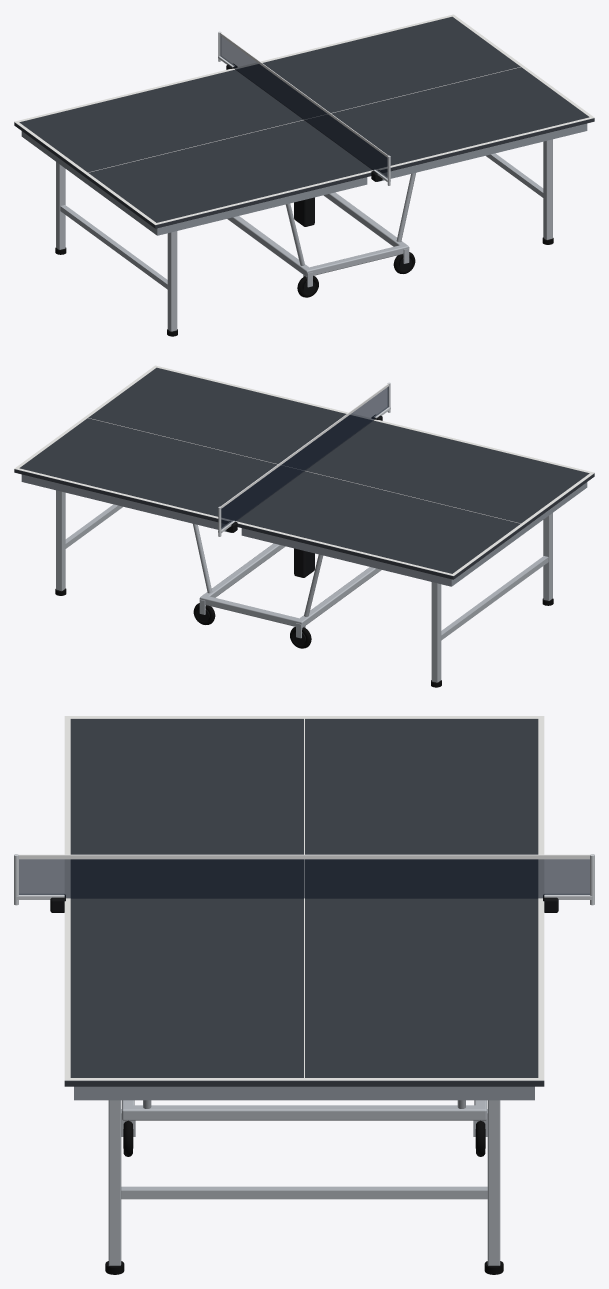
The model's file is platte-indoor-anthrazit.glb.
3 renders of one model, top to bottom at view 1: azimuth 30°, elevation 25°; view 2: azimuth 150°, elevation 25°; view 3: azimuth 270°, elevation 25°, orthographic. The views are drawn at different scales.
Parts seen in each view (by area): view 1: Platte (×2), Netz, Beine (×2), Hälfte A, Fahrwerk, Hälfte B, Tischtennisplatte; view 2: Platte (×2), Netz, Beine (×2), Hälfte A, Fahrwerk, Hälfte B, Tischtennisplatte; view 3: Platte (×2), Netz, Hälfte B, Beine, Fahrwerk, Hälfte A.
Boxes of the visible parts, bbox=[...] form: Platte (×2): bbox=[14, 16, 594, 228]; Netz: bbox=[218, 31, 390, 185]; Beine (×2): bbox=[55, 139, 553, 336]; Hälfte A: bbox=[14, 68, 373, 235]; Fahrwerk: bbox=[227, 192, 415, 297]; Hälfte B: bbox=[235, 14, 594, 181]; Tischtennisplatte: bbox=[285, 173, 415, 265]; Platte (×2): bbox=[14, 367, 594, 579]; Netz: bbox=[218, 382, 390, 536]; Beine (×2): bbox=[55, 490, 553, 687]; Hälfte A: bbox=[235, 419, 594, 586]; Fahrwerk: bbox=[193, 543, 381, 648]; Hälfte B: bbox=[14, 365, 373, 532]; Tischtennisplatte: bbox=[193, 524, 323, 616]; Platte (×2): bbox=[64, 719, 544, 1086]; Netz: bbox=[14, 854, 594, 912]; Hälfte B: bbox=[64, 898, 544, 1100]; Beine: bbox=[105, 1100, 503, 1274]; Fahrwerk: bbox=[121, 1100, 487, 1156]; Hälfte A: bbox=[64, 716, 544, 897].
Size of the model in its own units: 2.74 by 0.9125 by 1.85.
